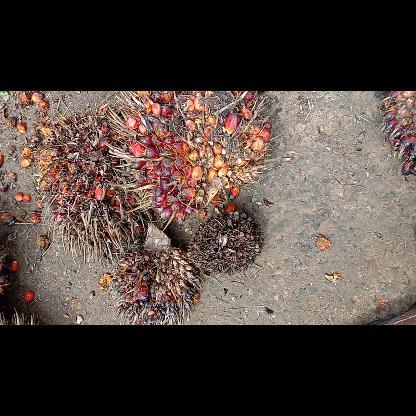TBS abnormal: (114, 228, 198, 324), (190, 210, 262, 274)
TBS masak: (115, 91, 272, 221)
Terlalu masak: (37, 110, 145, 252)
